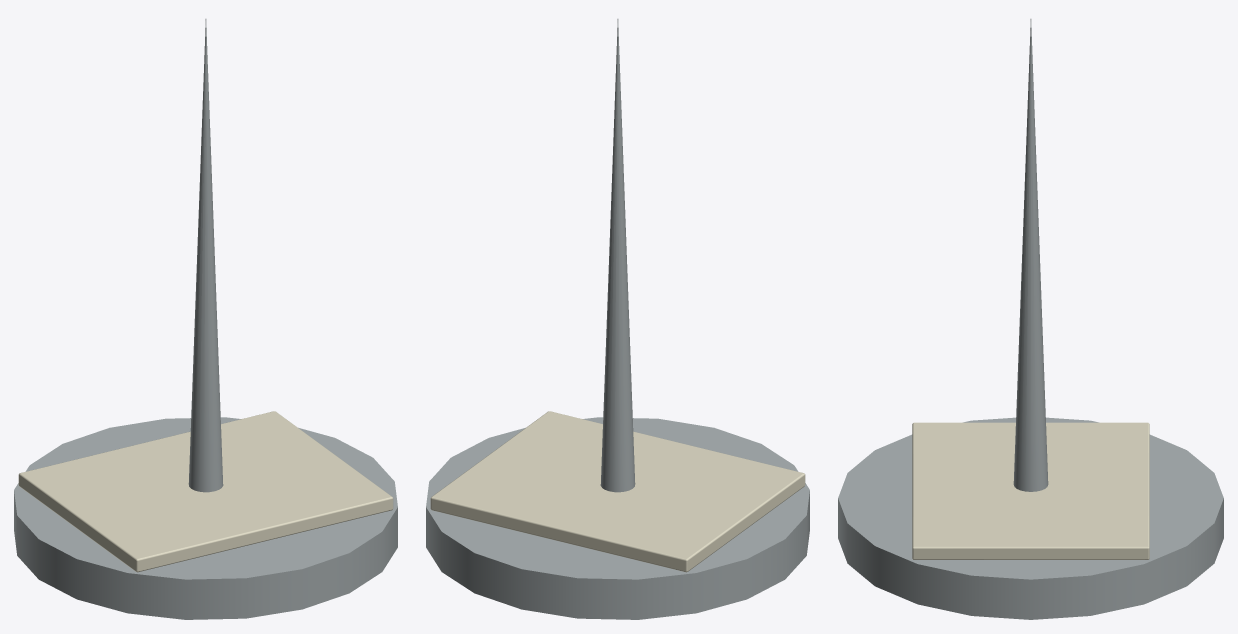
3 renders of one model, left to right at view 1: azimuth 30°, elevation 25°; view 2: azimuth 150°, elevation 25°; view 3: azimuth 270°, elevation 25°, orthographic.
Visible parts, largest first — view 1: receipts-spike; view 2: receipts-spike; view 3: receipts-spike.
Part boxes in pixels (<box>): receipts-spike: <box>14,19,397,619</box>; receipts-spike: <box>426,19,809,619</box>; receipts-spike: <box>838,19,1223,619</box>.
Bounding box in the file's own units: 0.13 × 0.195 × 0.13.
